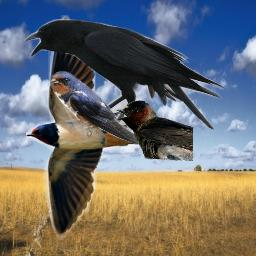Crow: (24, 19, 226, 131)
Swallow: (26, 15, 193, 241), (49, 71, 146, 145), (115, 100, 193, 161)
